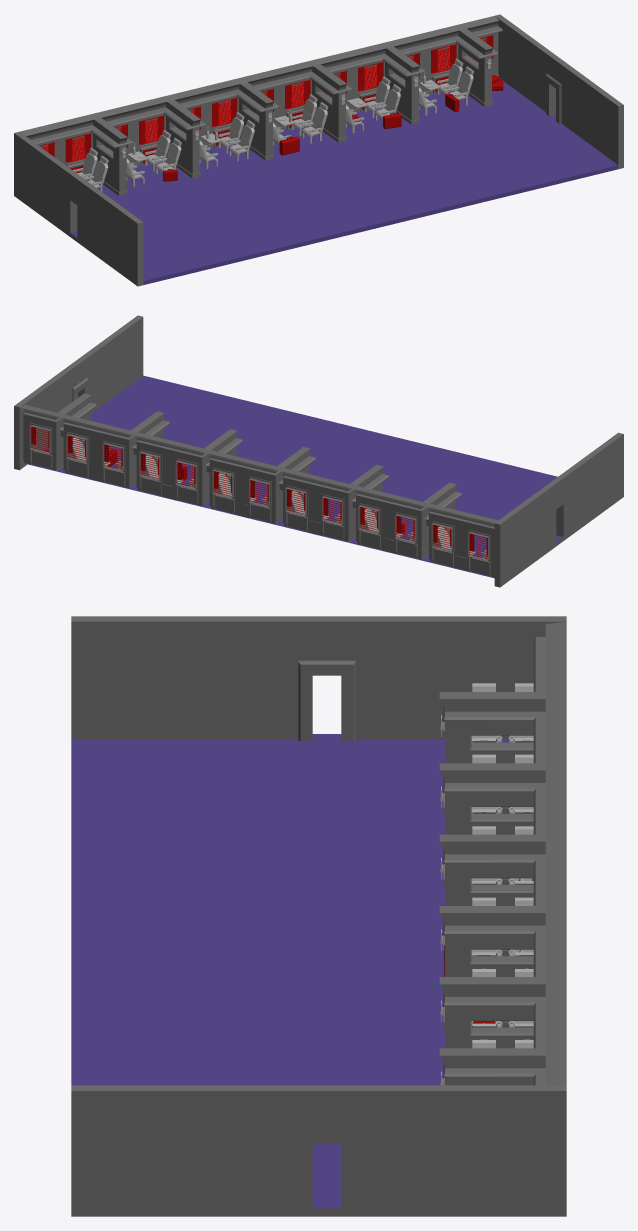
File: traincar_low.fbx
3 renders of one model, top to bottom at view 1: azimuth 30°, elevation 25°; view 2: azimuth 150°, elevation 25°; view 3: azimuth 270°, elevation 25°, orthographic. The views are drawn at different scales.
Parts seen in each view (by area): view 1: geo_floor_01, grp_geo_wall_window11, geo_doorway_02, geo_doorway_01, geo_chair_03 (×6), geo_chair_02 (×6); view 2: grp_geo_wall_window11, geo_floor_01, geo_doorway_02, geo_doorway_01; view 3: geo_floor_01, geo_doorway_01, geo_doorway_02, grp_geo_wall_window11.
Boxes of the visible parts, box(x1,y1,x2,y2) form: geo_floor_01: box(76, 79, 618, 284); grp_geo_wall_window11: box(20, 16, 502, 196); geo_doorway_02: box(14, 131, 143, 286); geo_doorway_01: box(495, 14, 623, 169); geo_chair_03 (×6): box(83, 66, 473, 191); geo_chair_02 (×6): box(73, 58, 463, 180); grp_geo_wall_window11: box(20, 393, 497, 577); geo_floor_01: box(23, 375, 557, 578); geo_doorway_02: box(494, 432, 623, 587); geo_doorway_01: box(14, 315, 143, 470); geo_floor_01: box(71, 739, 509, 1202); geo_doorway_01: box(71, 1085, 566, 1216); geo_doorway_02: box(71, 616, 566, 741); grp_geo_wall_window11: box(439, 622, 566, 1085).
Size of the model in its own units: 3725 by 461 by 1643.
